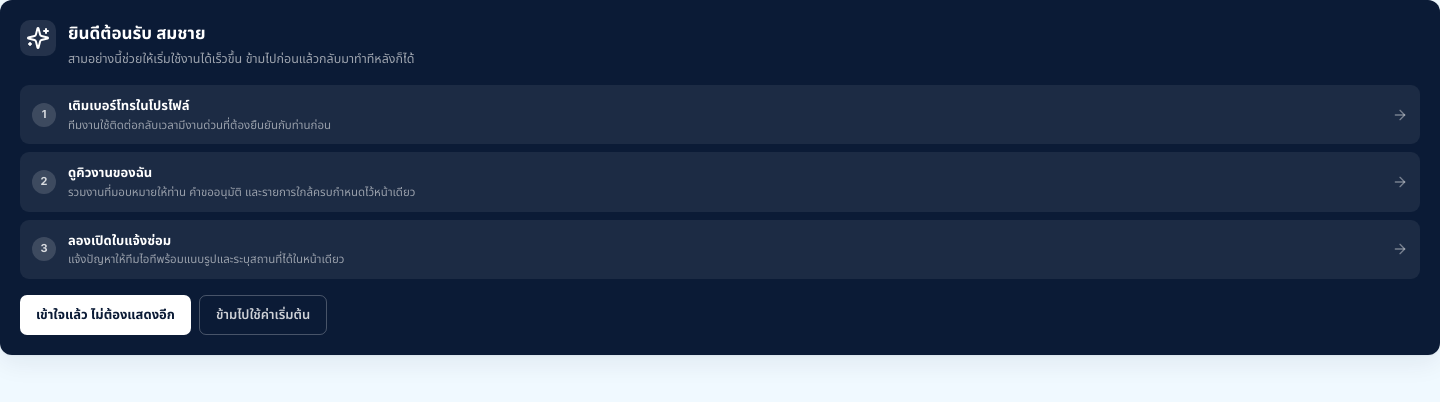
OnboardingCard › keeps the card up and says so when saving the state fails
Click the button "ข้ามไปใช้ค่าเริ่มต้น".
click(263, 315)  # box [199,295,327,335]
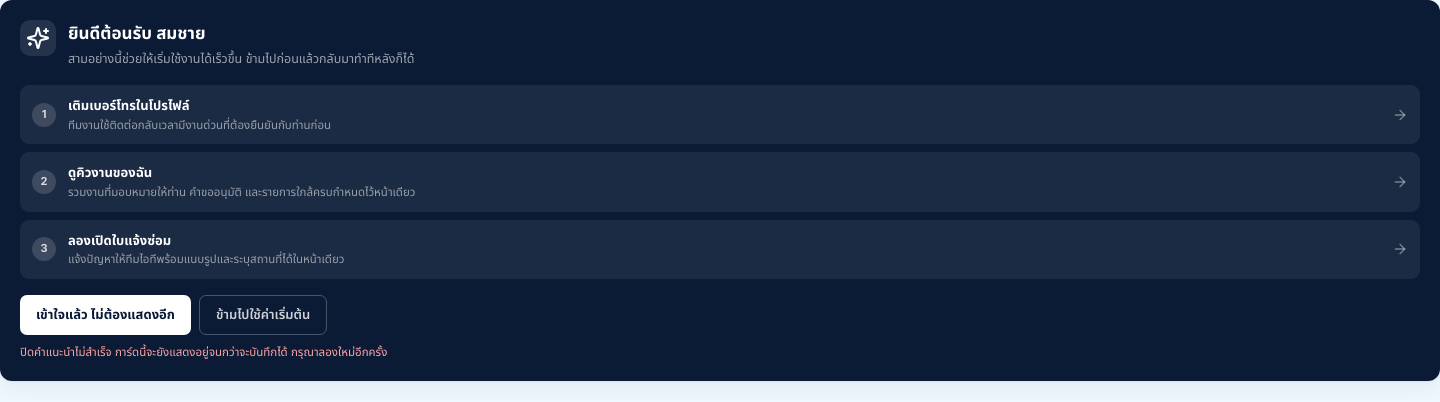
Expected: the heading "ยินดีต้อนรับ สมชาย" is shown, [68,23,206,43]
Expected: the message shows "ปิดคำแนะนำไม่สำเร็จ", [20,345,387,359]
